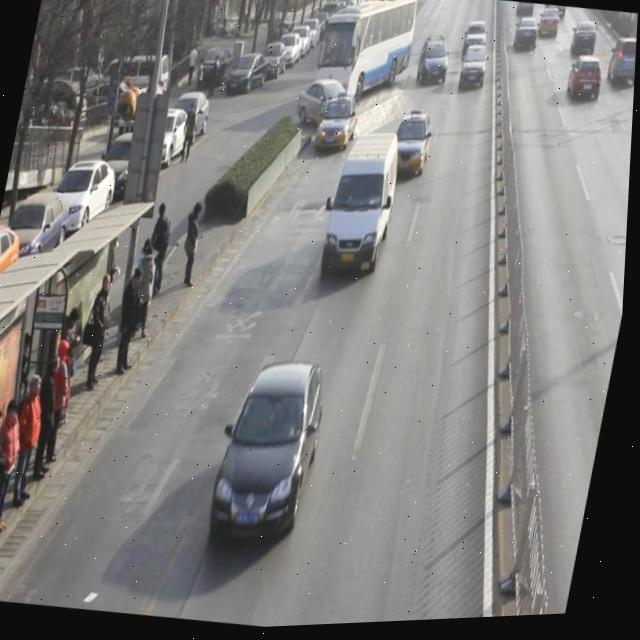car: (209, 356, 337, 555), (294, 78, 362, 141), (387, 115, 437, 188), (314, 95, 366, 161), (566, 58, 608, 111), (417, 38, 455, 95), (457, 48, 493, 101), (605, 41, 637, 97), (568, 23, 601, 68), (511, 20, 542, 60), (461, 24, 491, 64)
truck: (320, 130, 410, 289)
van: (312, 0, 421, 111)
